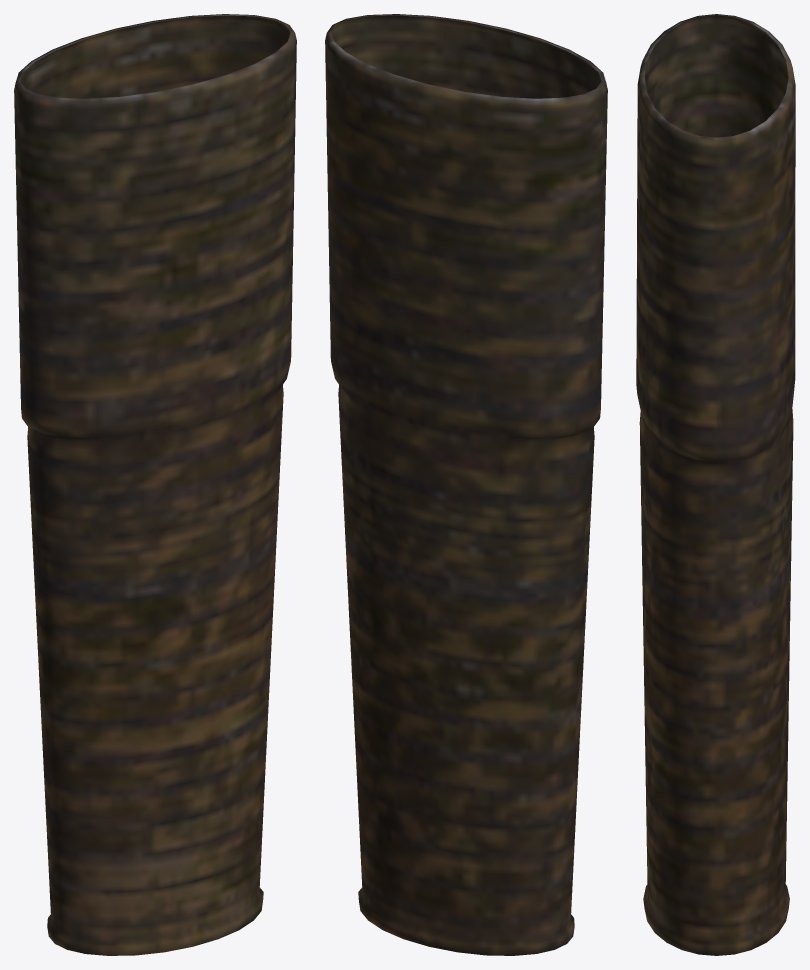
File: wm_dol_goldur_1h_sword_a03_handle.fbx
3 views of the same model, side by side, from view 1: azimuth 30°, elevation 25°; view 2: azimuth 150°, elevation 25°; view 3: azimuth 270°, elevation 25° (orthographic). The views are drawn at different scales.
Parts seen in each view (by area): view 1: wm_dol_goldur_1h_sword_a03_handle; view 2: wm_dol_goldur_1h_sword_a03_handle; view 3: wm_dol_goldur_1h_sword_a03_handle.
Part boxes in pixels (x1,y1,x2,y2): wm_dol_goldur_1h_sword_a03_handle: (14, 14, 296, 955); wm_dol_goldur_1h_sword_a03_handle: (325, 14, 607, 955); wm_dol_goldur_1h_sword_a03_handle: (636, 14, 795, 955).
Bounding box in the file's own units: 0.056 × 0.0295 × 0.1706.
1 material, 1 textured.
